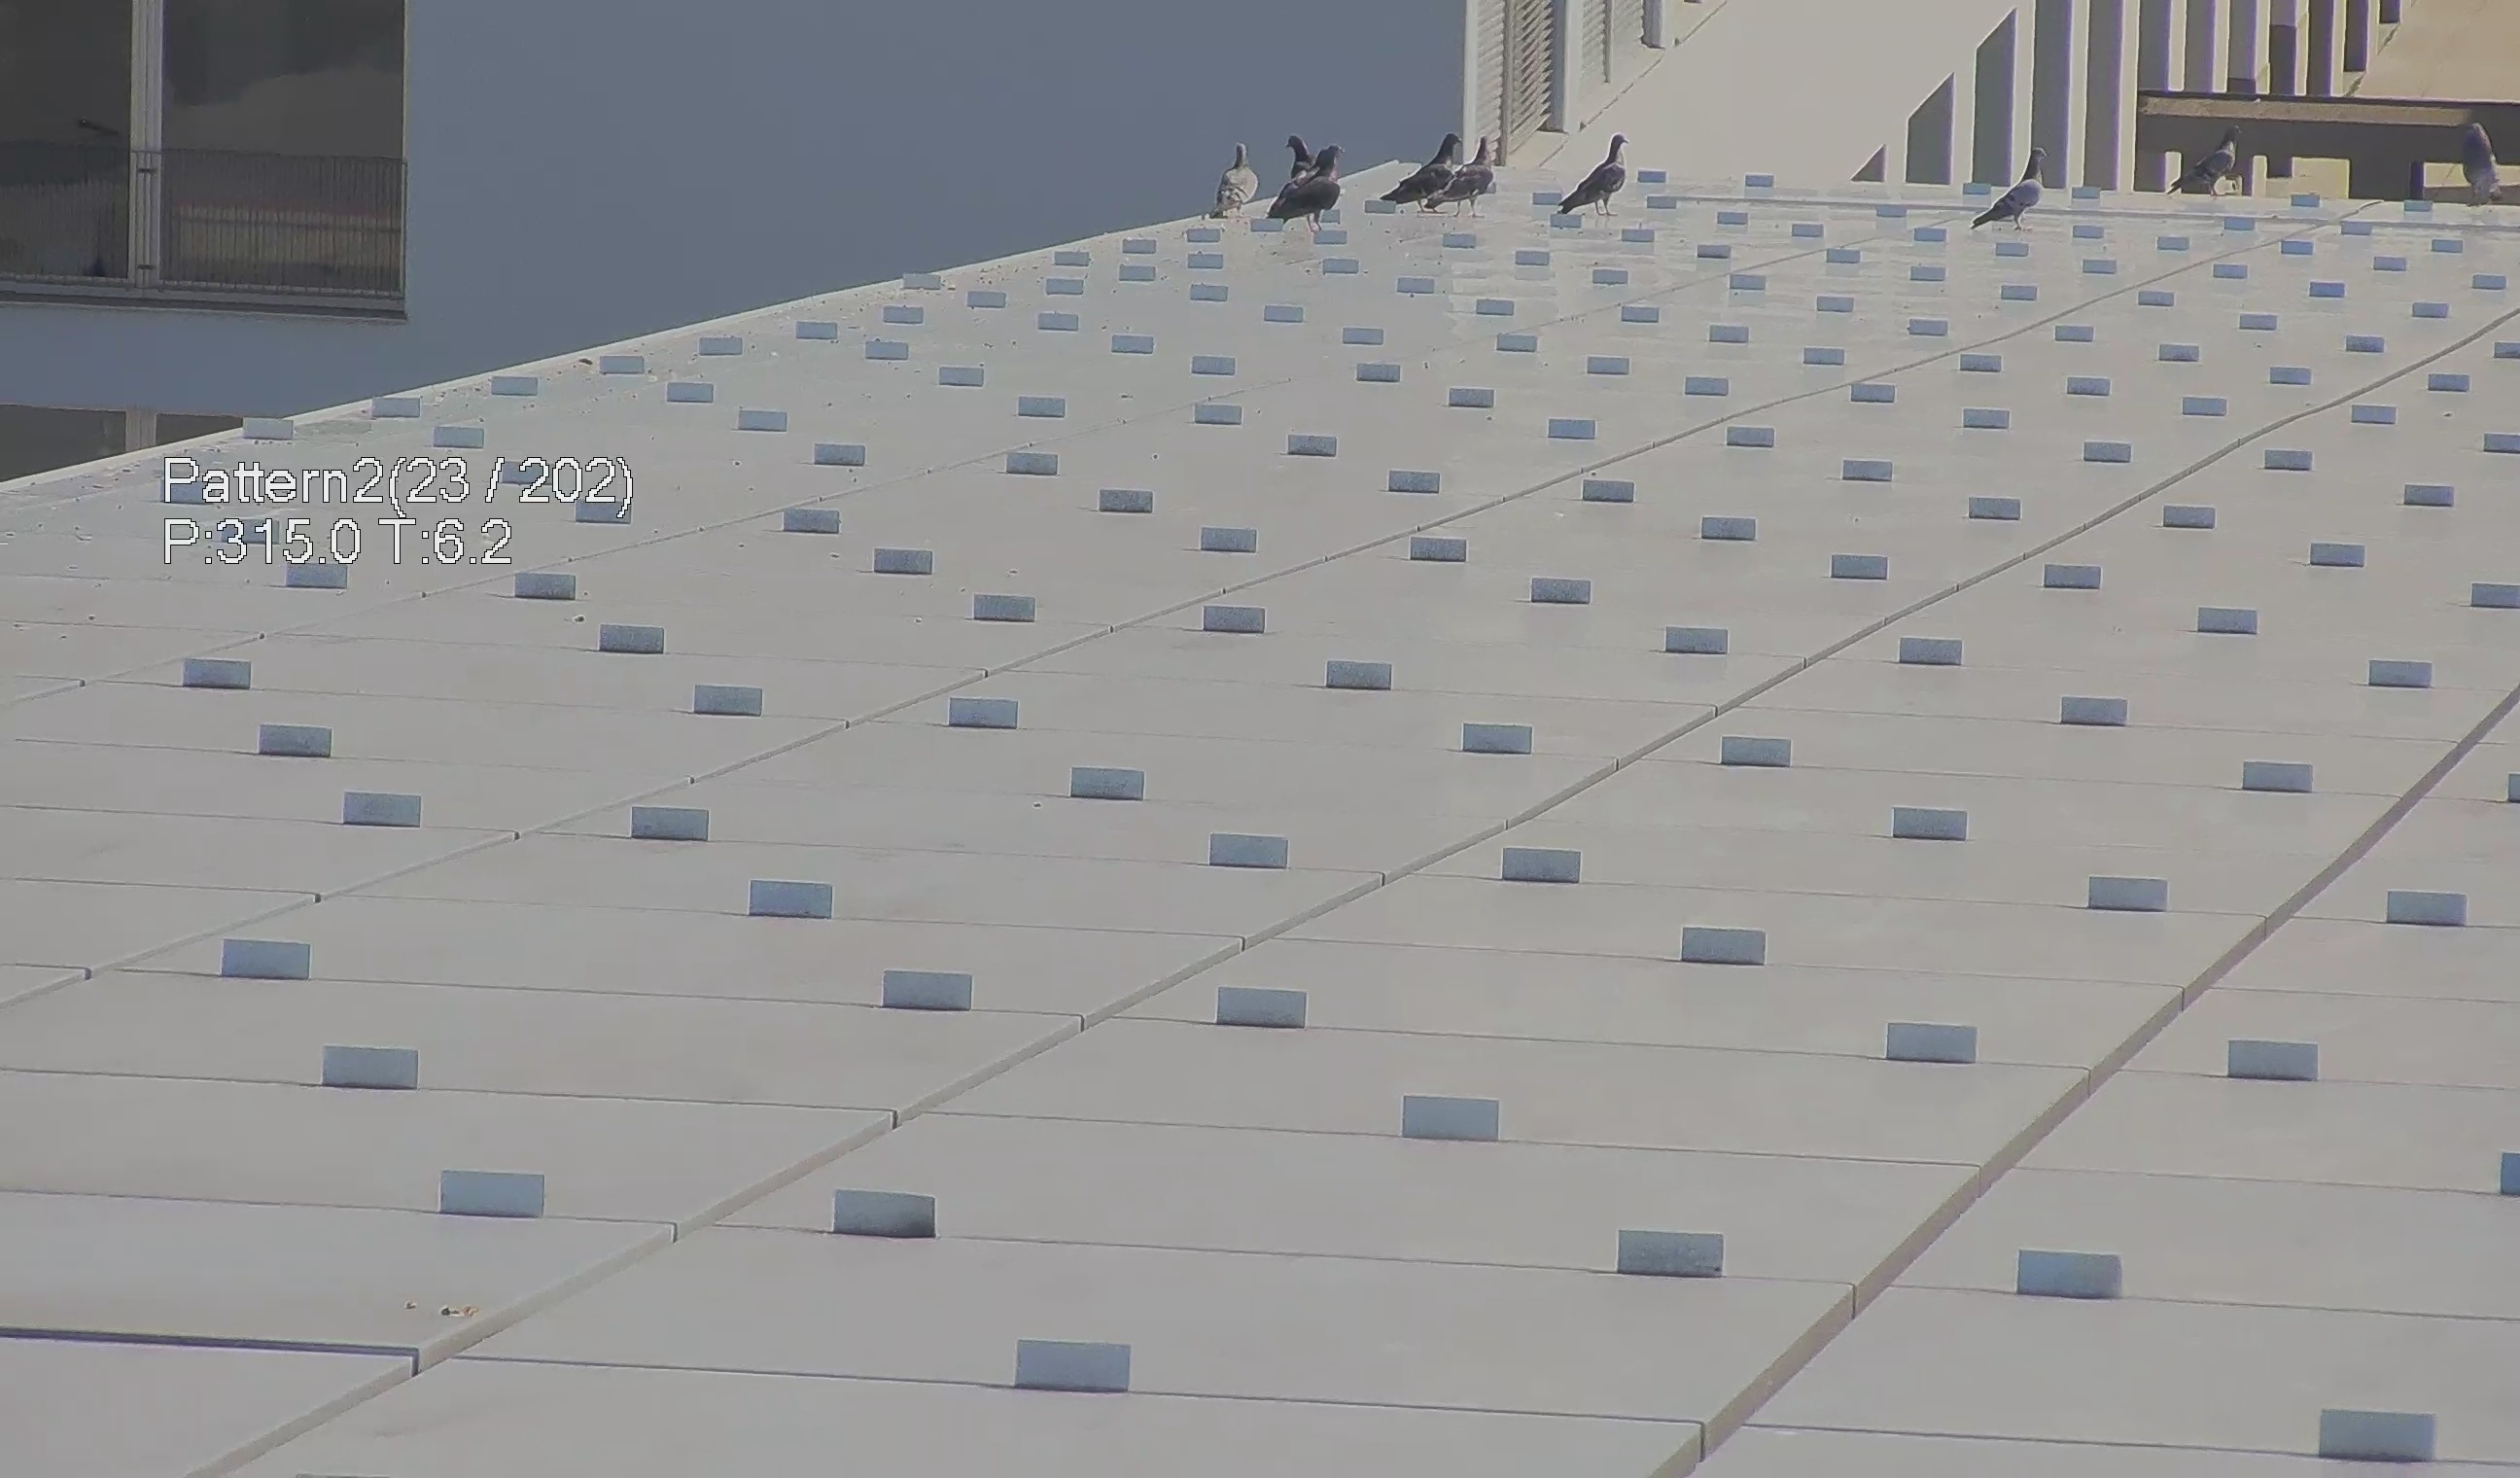Pigeon: (1546, 121, 1646, 218), (1975, 141, 2070, 239), (1263, 141, 1363, 227), (2170, 118, 2253, 206), (1386, 123, 1461, 216), (1428, 130, 1504, 220), (2453, 118, 2504, 223), (1208, 139, 1271, 211), (1277, 127, 1315, 178)
